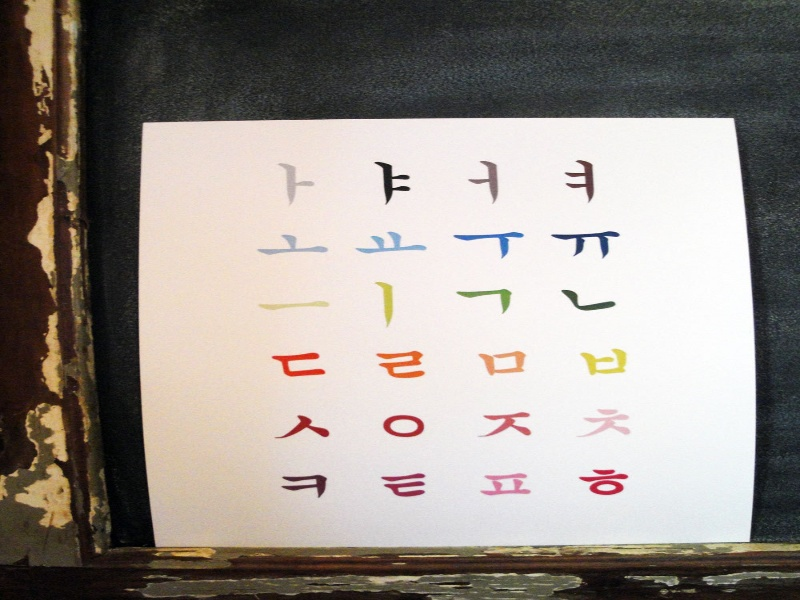letter: (375, 400, 432, 442)
